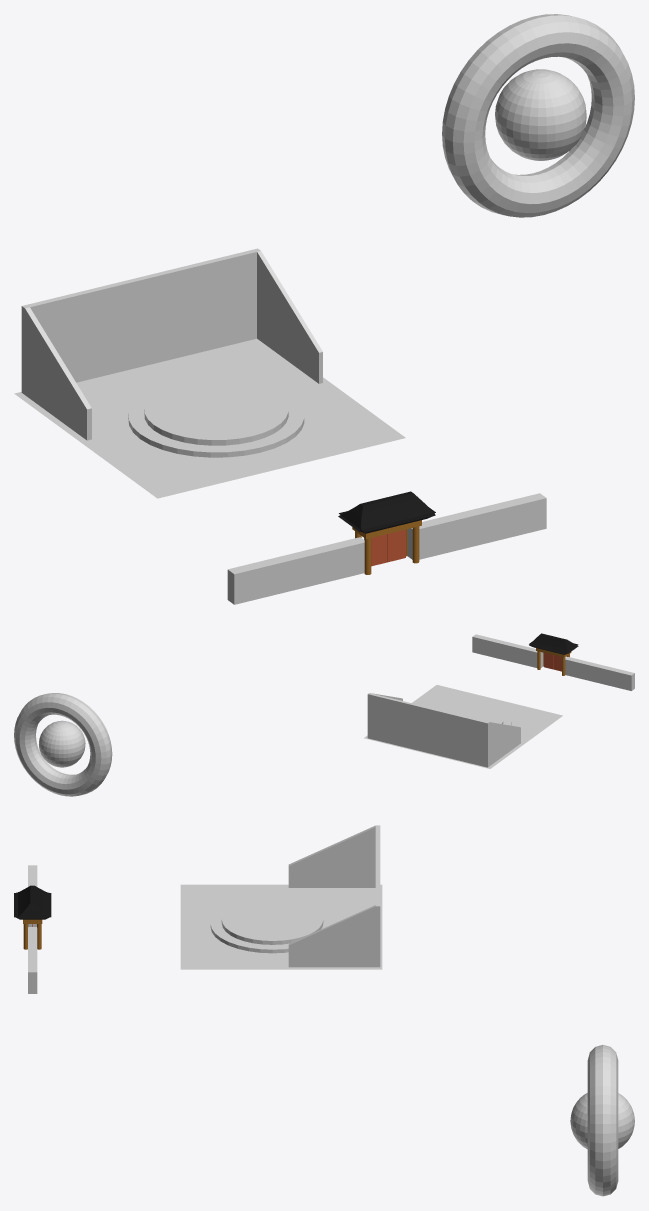
File: proto_01.glb
The picture shows the model from 3 angles, top to bottom: view 1: azimuth 30°, elevation 25°; view 2: azimuth 150°, elevation 25°; view 3: azimuth 270°, elevation 25°; orthographic projection. The views are drawn at different scales.
Visible parts, largest first — view 1: Cube.005, Torus, Plane, Cube.004, Cylinder.002, Sphere, Cylinder.001, Cube.002, Cube.001; view 2: Cube.005, Torus, Plane, Cube.004, Sphere, Cylinder.002, Cube.002, Cube.001; view 3: Cube.005, Plane, Torus, Cylinder.002, Sphere, Cylinder.001, Cube.002, Cube.004.
Boxes of the visible parts, box(x1,y1,x2,y2) form: Cube.005: box(21, 248, 322, 440); Torus: box(442, 14, 634, 217); Plane: box(14, 338, 405, 498); Cube.004: box(227, 493, 546, 604); Cylinder.002: box(144, 379, 288, 445); Sphere: box(495, 69, 586, 160); Cylinder.001: box(128, 378, 304, 457); Cube.002: box(338, 491, 435, 533); Cube.001: box(371, 529, 405, 566); Cube.005: box(367, 693, 520, 767); Torus: box(14, 693, 112, 796); Plane: box(364, 685, 562, 768); Cube.004: box(472, 634, 634, 690); Sphere: box(39, 720, 85, 767); Cylinder.002: box(438, 703, 503, 724); Cube.002: box(529, 633, 578, 654); Cube.001: box(544, 653, 561, 671); Cube.005: box(288, 825, 380, 967); Plane: box(180, 884, 382, 969); Torus: box(587, 1045, 618, 1196); Cylinder.002: box(221, 898, 323, 944); Sphere: box(570, 1093, 634, 1149); Cylinder.001: box(210, 897, 334, 953); Cube.002: box(14, 885, 51, 919); Cube.004: box(28, 865, 37, 993).
Size of the model in its own units: 107 by 24.76 by 101.
